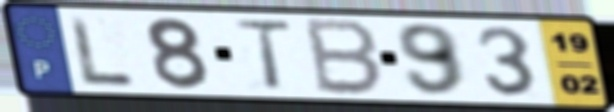3: (474, 24, 543, 100)
8: (143, 15, 213, 91)
9: (393, 21, 473, 98)
B: (303, 16, 387, 98)
L: (66, 13, 139, 88)
T: (229, 18, 298, 93)
